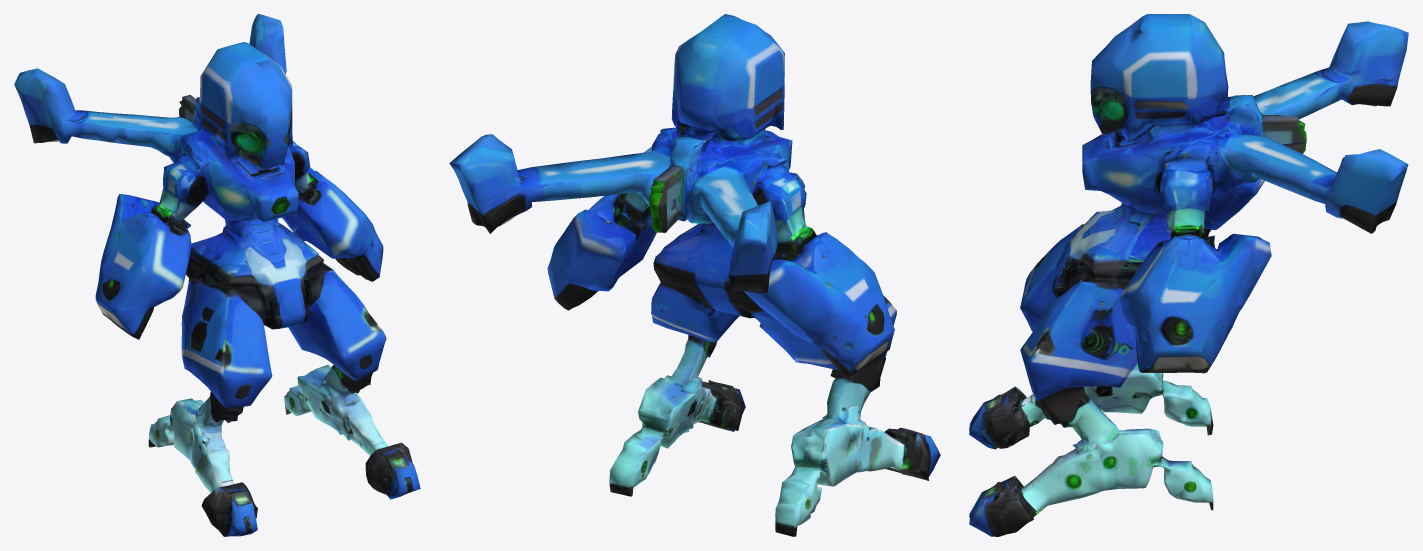
Rendered from mecha.glb.
3 views of the same model, side by side, from view 1: azimuth 30°, elevation 25°; view 2: azimuth 150°, elevation 25°; view 3: azimuth 270°, elevation 25° (orthographic). The views are drawn at different scales.
Size of the model in its own units: 1.38 by 2 by 1.71.
1 material, 1 textured.
